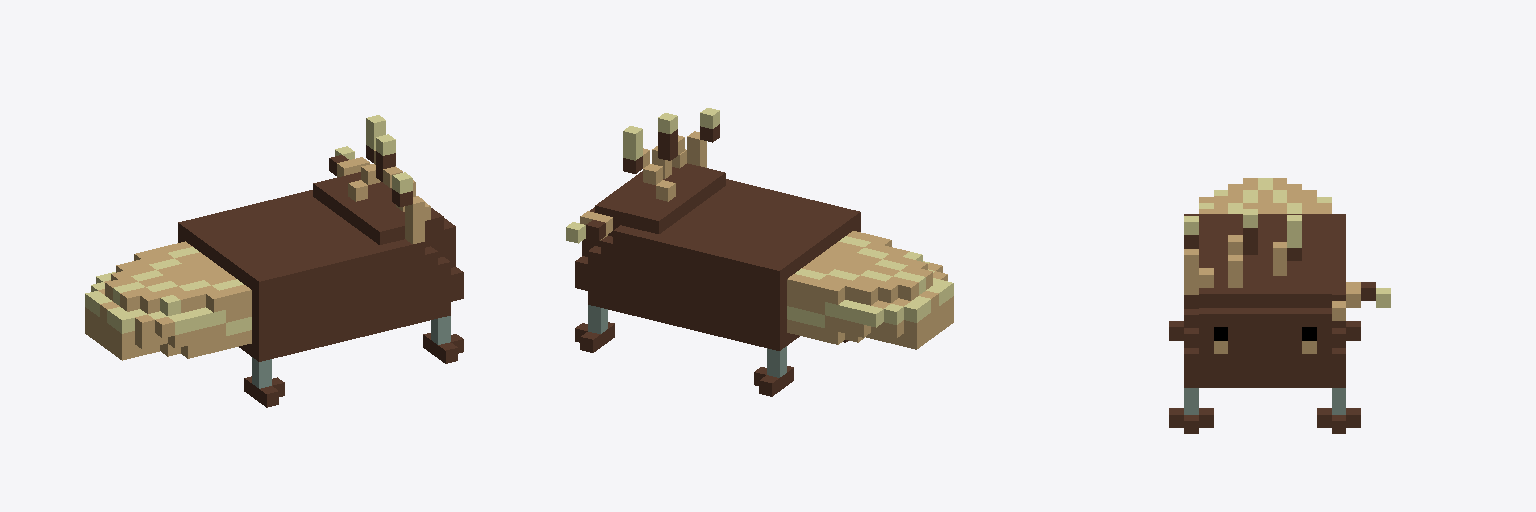
The picture shows the model from 3 angles: view 1: azimuth 30°, elevation 25°; view 2: azimuth 150°, elevation 25°; view 3: azimuth 270°, elevation 25°; orthographic projection.
Parts seen in each view (by area): view 1: object 1; view 2: object 1; view 3: object 1.
Part boxes in pixels (x1,y1,x2,y2): object 1: (85,115,463,407); object 1: (566,108,953,396); object 1: (1169,178,1390,433).
Size of the model in its own units: 2.5 by 1.5 by 1.5.
1 materials, 1 textured.